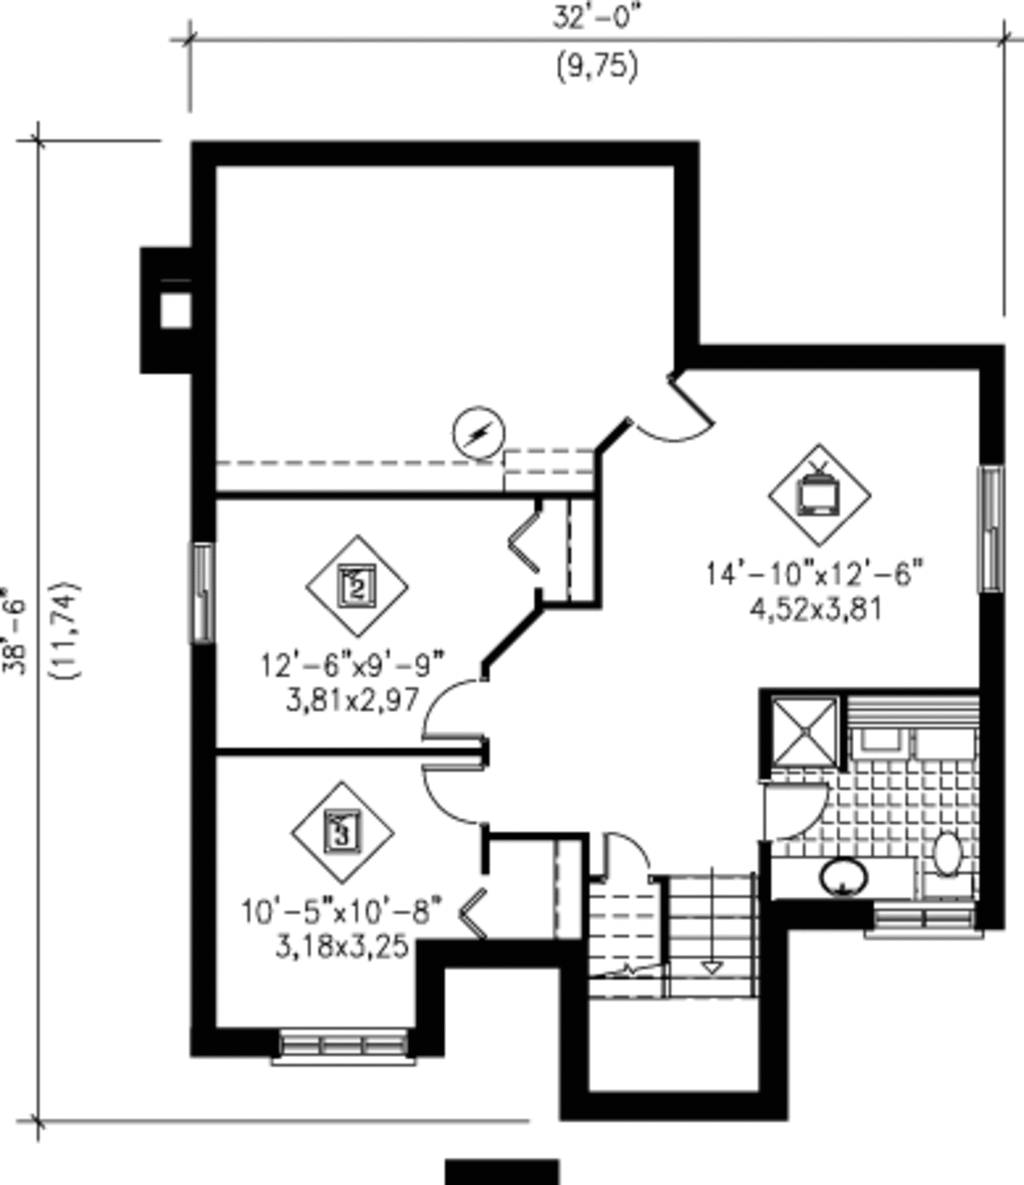door: (622, 372, 718, 454), (418, 759, 492, 834), (416, 674, 496, 743), (754, 781, 841, 843), (594, 830, 654, 885)
small_sink: (789, 855, 883, 895)
stairs: (652, 866, 756, 997)
window: (272, 1025, 416, 1070), (969, 470, 1014, 595), (874, 894, 981, 941), (189, 541, 220, 646)
